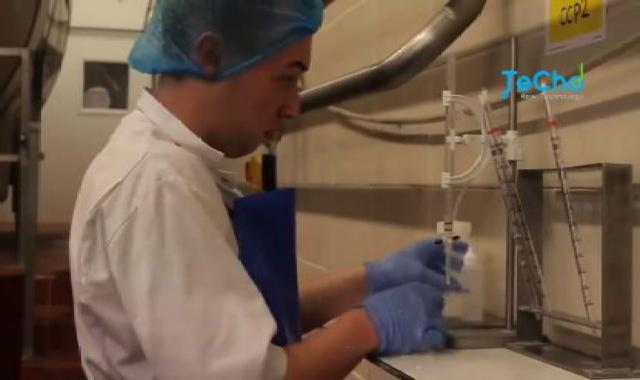hairnet: (128, 0, 332, 86)
